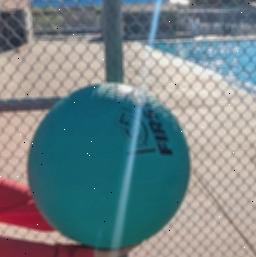algae: (23, 78, 195, 250)
